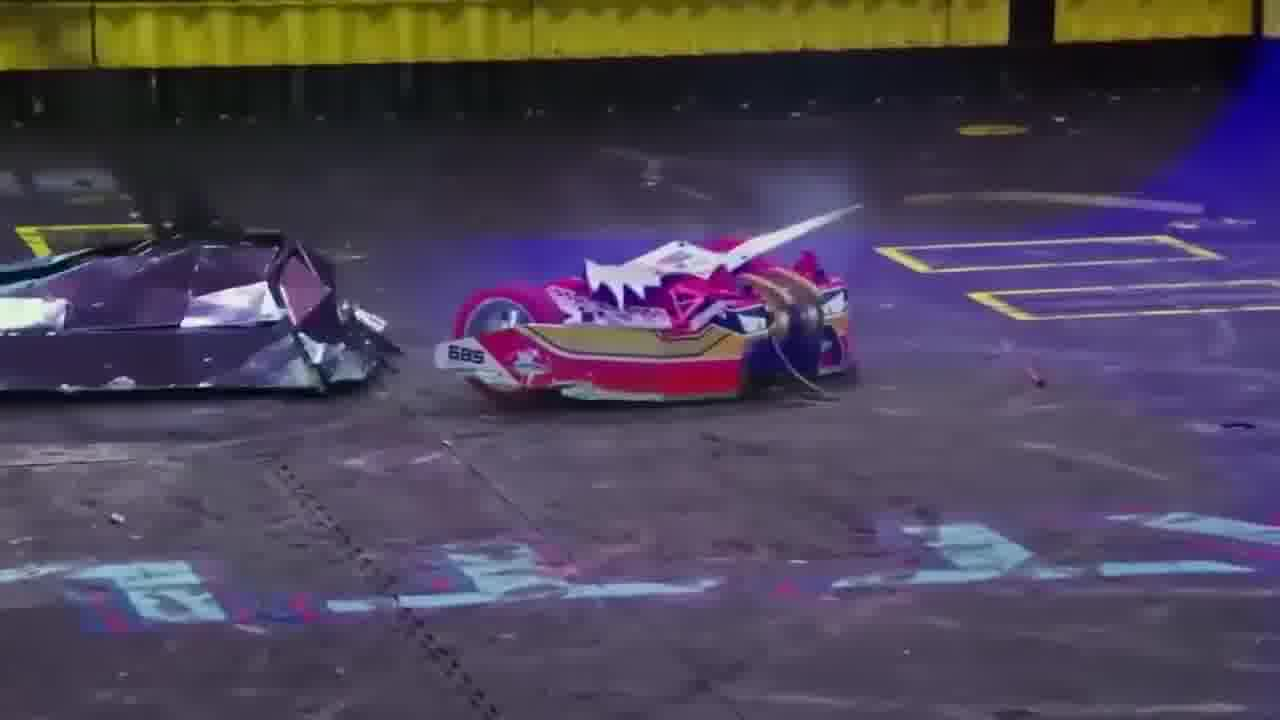combatbot: (451, 226, 858, 414), (0, 220, 395, 410)
